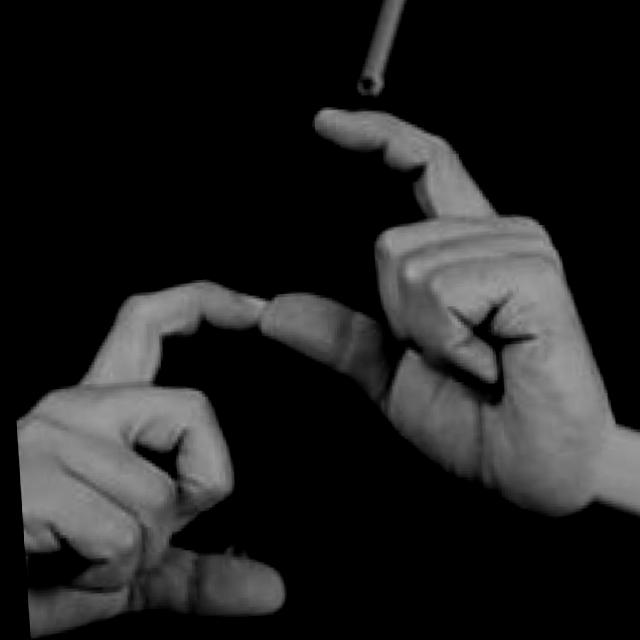S: (3, 87, 631, 640)
